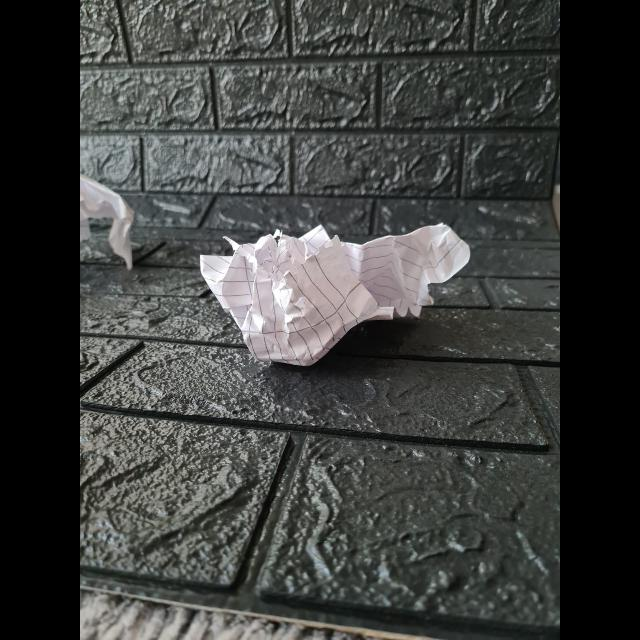scrap_paper: (200, 222, 480, 368)
